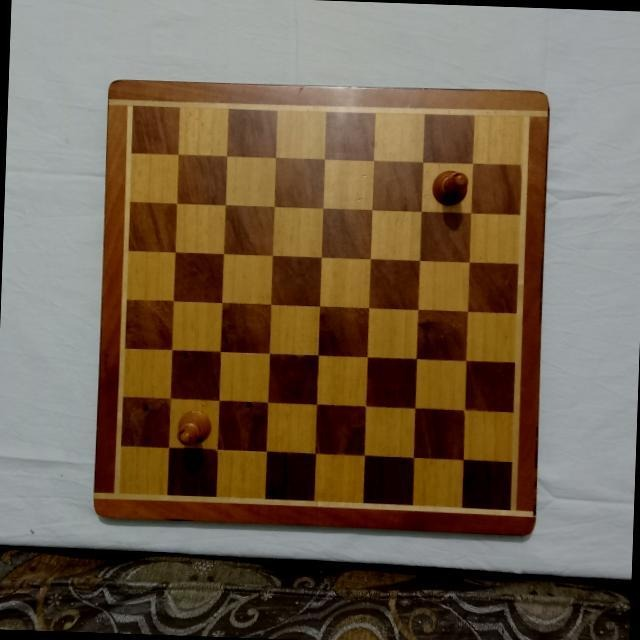white-bishop: (430, 167, 470, 208), (175, 408, 212, 447)
